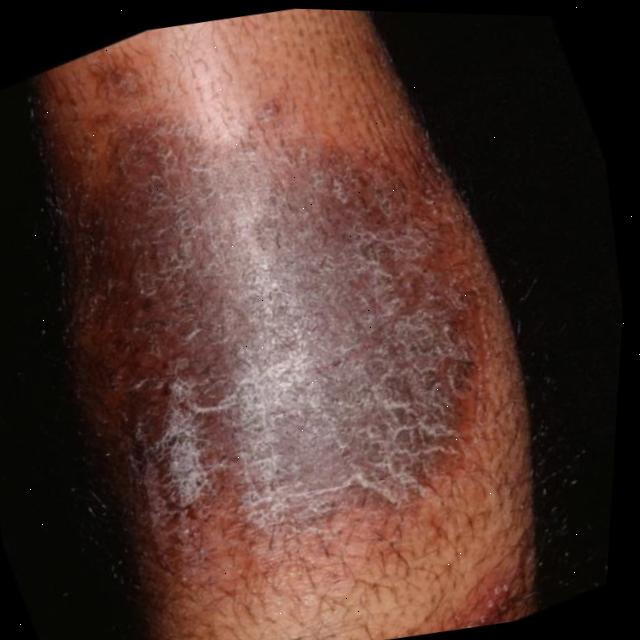Eczema: (87, 90, 521, 512)
